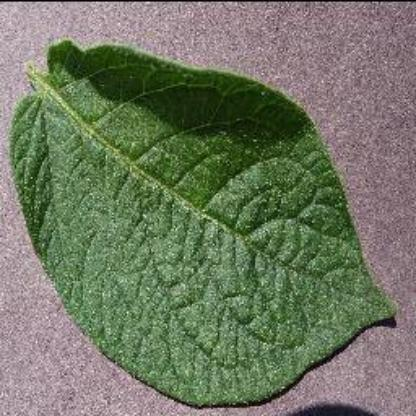Healthy-plant: (12, 38, 398, 406)
